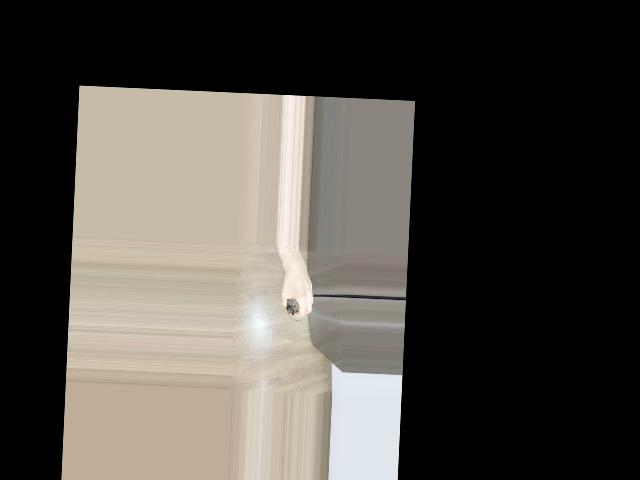beet: (285, 298, 303, 322)
